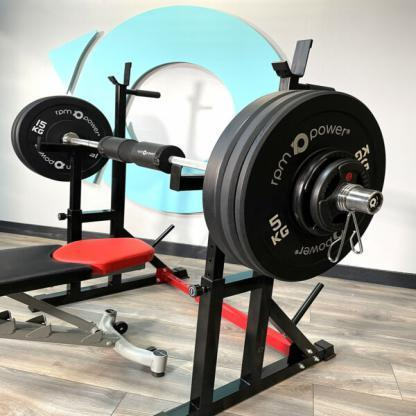barbell: (8, 86, 386, 284)
